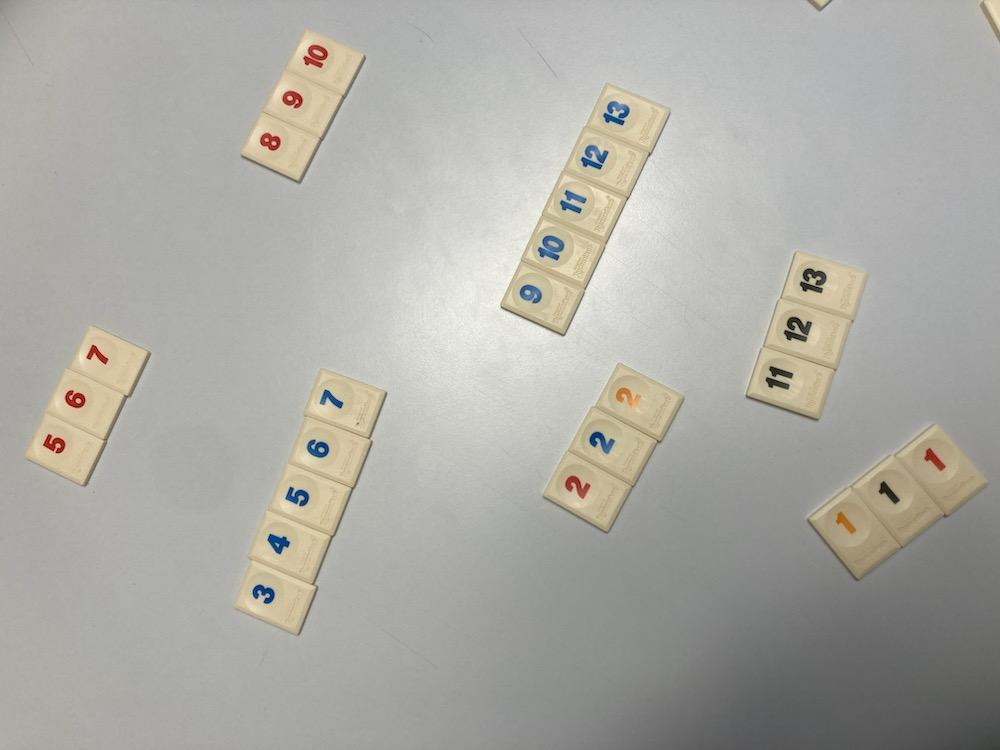black_1: (854, 457, 943, 545)
black_11: (746, 348, 834, 420)
black_12: (764, 299, 852, 369)
black_13: (781, 252, 867, 320)
blue_10: (524, 219, 604, 287)
blue_11: (544, 174, 625, 242)
blue_12: (567, 129, 648, 197)
blue_13: (586, 84, 670, 152)
blue_2: (570, 408, 656, 484)
blue_3: (236, 561, 316, 635)
blue_4: (250, 512, 330, 584)
blue_5: (270, 465, 352, 535)
blue_6: (291, 416, 371, 486)
blue_7: (307, 369, 385, 438)
blue_9: (502, 262, 584, 334)
orange_1: (809, 488, 900, 578)
orange_2: (596, 363, 684, 439)
red_1: (896, 424, 986, 516)
red_10: (286, 29, 365, 96)
red_2: (543, 453, 631, 531)
red_5: (25, 414, 105, 484)
red_6: (47, 369, 125, 439)
red_7: (70, 326, 148, 396)
red_8: (240, 113, 320, 182)
red_9: (265, 70, 342, 137)
